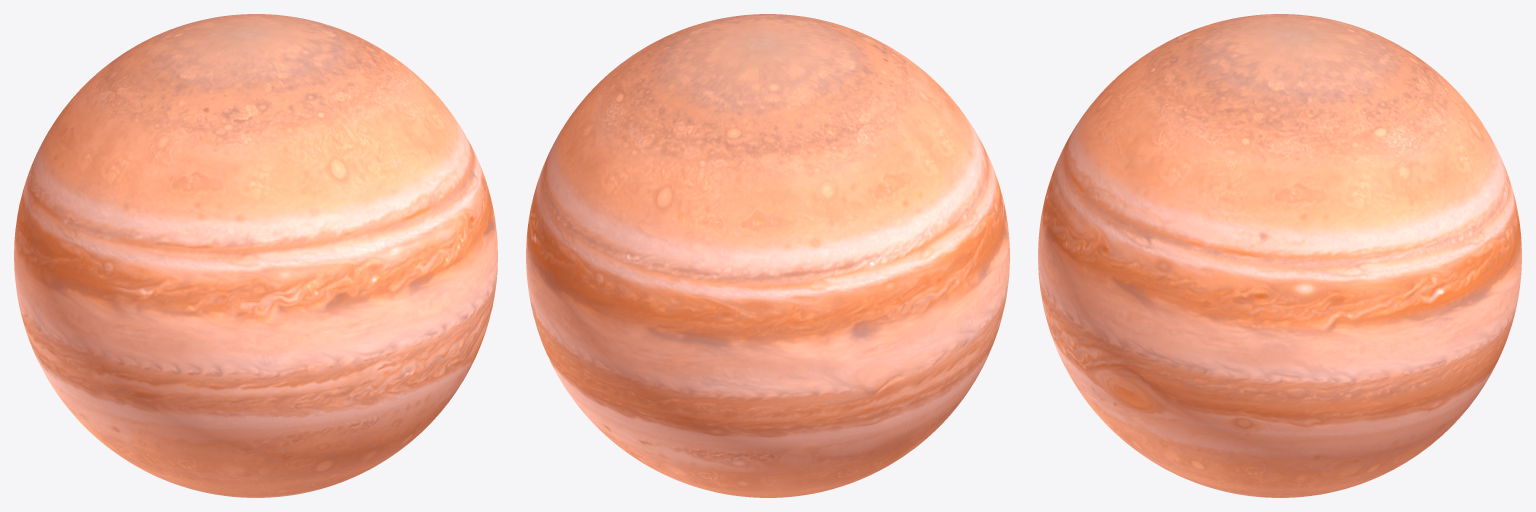
Rendered from jupiter.glb.
The picture shows the model from 3 angles, left to right: view 1: azimuth 30°, elevation 25°; view 2: azimuth 150°, elevation 25°; view 3: azimuth 270°, elevation 25°; orthographic projection.
Parts seen in each view (by area): view 1: Jupiter_3; view 2: Jupiter_3; view 3: Jupiter_3.
Part boxes in pixels (bbox=[...]): Jupiter_3: bbox=[14, 14, 497, 497]; Jupiter_3: bbox=[526, 14, 1009, 497]; Jupiter_3: bbox=[1038, 14, 1521, 497].
Bounding box in the file's own units: 3.82 × 3.82 × 3.82.
1 material, 1 textured.
